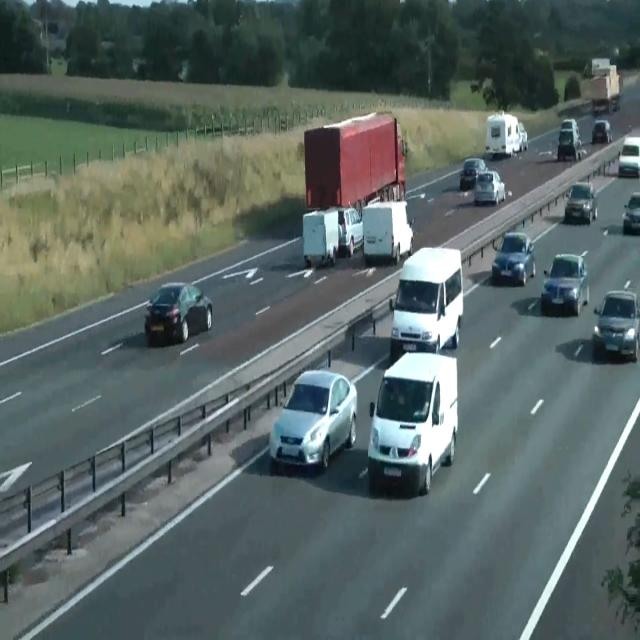bus: (144, 281, 212, 345), (491, 230, 535, 286), (564, 181, 598, 224), (474, 170, 506, 206), (459, 157, 488, 190), (622, 190, 640, 235), (592, 119, 612, 144), (560, 118, 580, 140), (518, 122, 528, 151)
jeep: (367, 349, 458, 496), (269, 368, 357, 470), (592, 286, 639, 361), (541, 250, 589, 316), (327, 204, 363, 256), (557, 120, 582, 161), (618, 135, 639, 177)
minibus: (303, 111, 407, 217), (388, 245, 464, 358), (362, 199, 414, 265), (302, 209, 340, 268), (485, 110, 520, 159), (591, 64, 621, 114)
